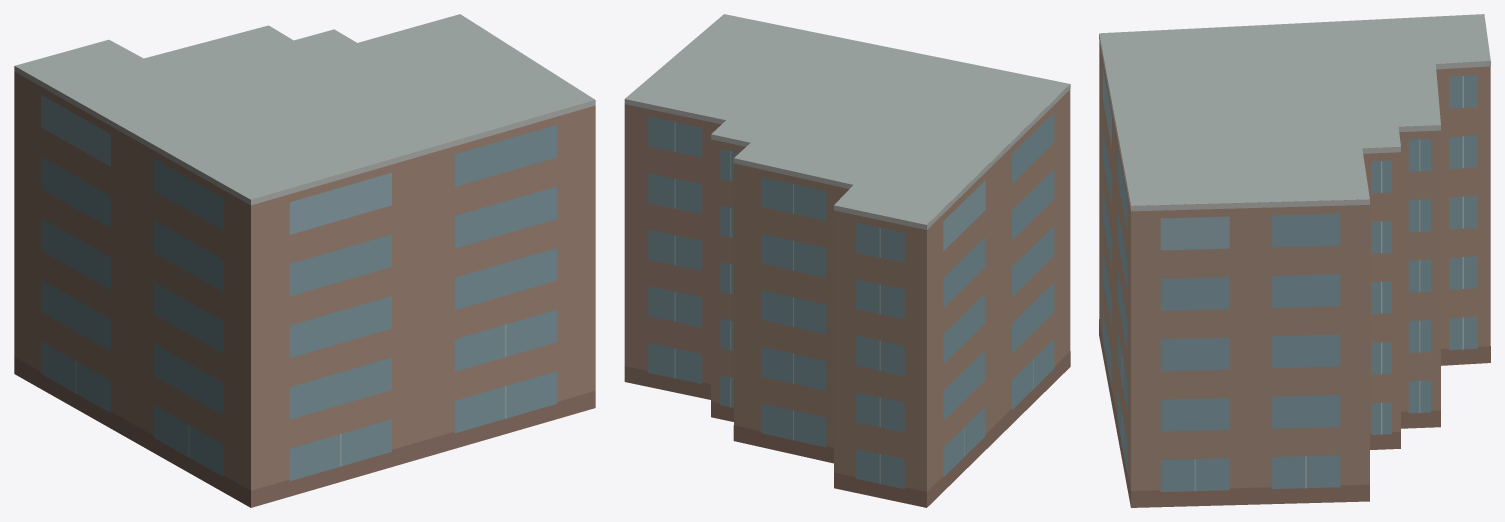
Rendered from survey-upis-32750143.glb.
The picture shows the model from 3 angles, left to right: view 1: azimuth 30°, elevation 25°; view 2: azimuth 150°, elevation 25°; view 3: azimuth 270°, elevation 25°; orthographic projection. The views are drawn at different scales.
Visible parts, largest first — view 1: survey-upis-32750143.tmp; view 2: survey-upis-32750143.tmp; view 3: survey-upis-32750143.tmp.
Part boxes in pixels (box(x1,y1,x2,y2)): survey-upis-32750143.tmp: box(14, 14, 595, 507); survey-upis-32750143.tmp: box(624, 14, 1070, 507); survey-upis-32750143.tmp: box(1099, 14, 1490, 507).
Bounding box in the file's own units: 18.4 × 13.5 × 15.88.
